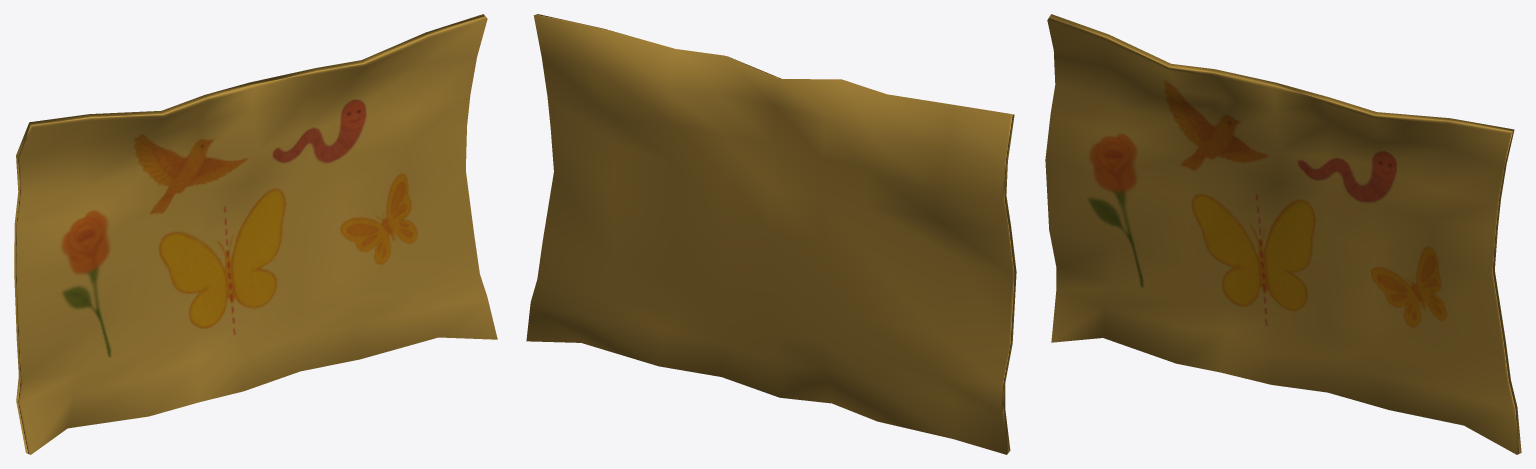
File: desenho.glb
The picture shows the model from 3 angles, left to right: view 1: azimuth 30°, elevation 25°; view 2: azimuth 150°, elevation 25°; view 3: azimuth 330°, elevation 25°; orthographic projection. The views are drawn at different scales.
Parts seen in each view (by area): view 1: desenho_low; view 2: desenho_low; view 3: desenho_low.
Boxes of the visible parts, bbox=[...] form: desenho_low: bbox=[14, 14, 497, 454]; desenho_low: bbox=[526, 14, 1016, 454]; desenho_low: bbox=[1045, 14, 1521, 454].
Bounding box in the file's own units: 0.2305 × 0.1537 × 0.0171.
1 material, 1 textured.
